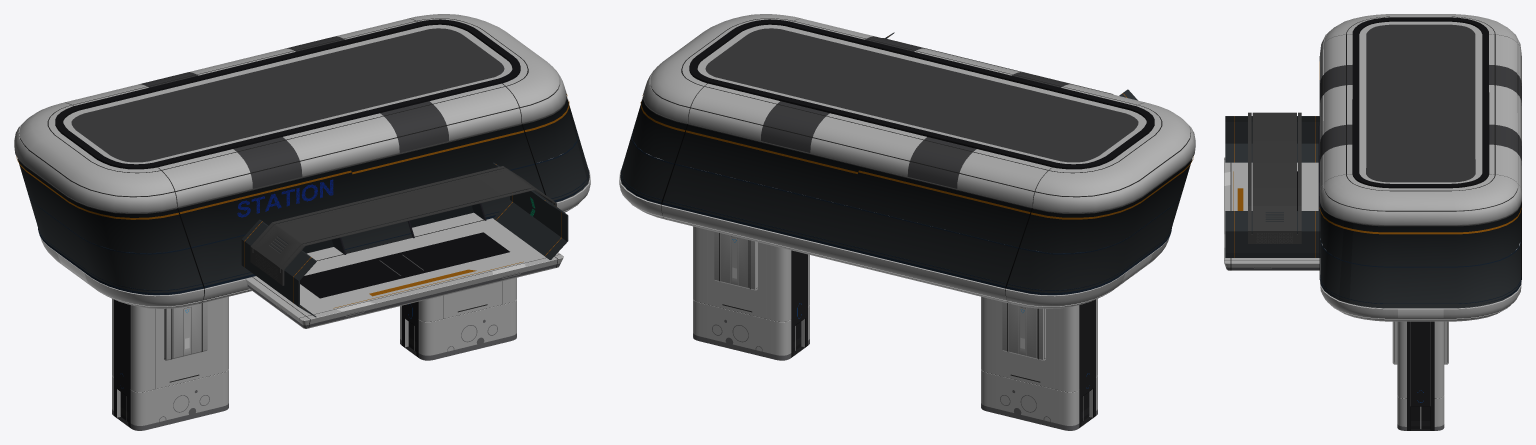
File: W_O_Monorailstation_001_L0.fbx
3 views of the same model, side by side, from view 1: azimuth 30°, elevation 25°; view 2: azimuth 150°, elevation 25°; view 3: azimuth 270°, elevation 25° (orthographic). The views are drawn at different scales.
Parts seen in each view (by area): view 1: W_O_Monorailstation_001_L0; view 2: W_O_Monorailstation_001_L0; view 3: W_O_Monorailstation_001_L0.
Boxes of the visible parts, x1,y1,x2,y2 form: W_O_Monorailstation_001_L0: (14,14,590,430); W_O_Monorailstation_001_L0: (619,14,1195,430); W_O_Monorailstation_001_L0: (1224,14,1521,430).
Bounding box in the file's own units: 39.16 × 20.99 × 23.62.
